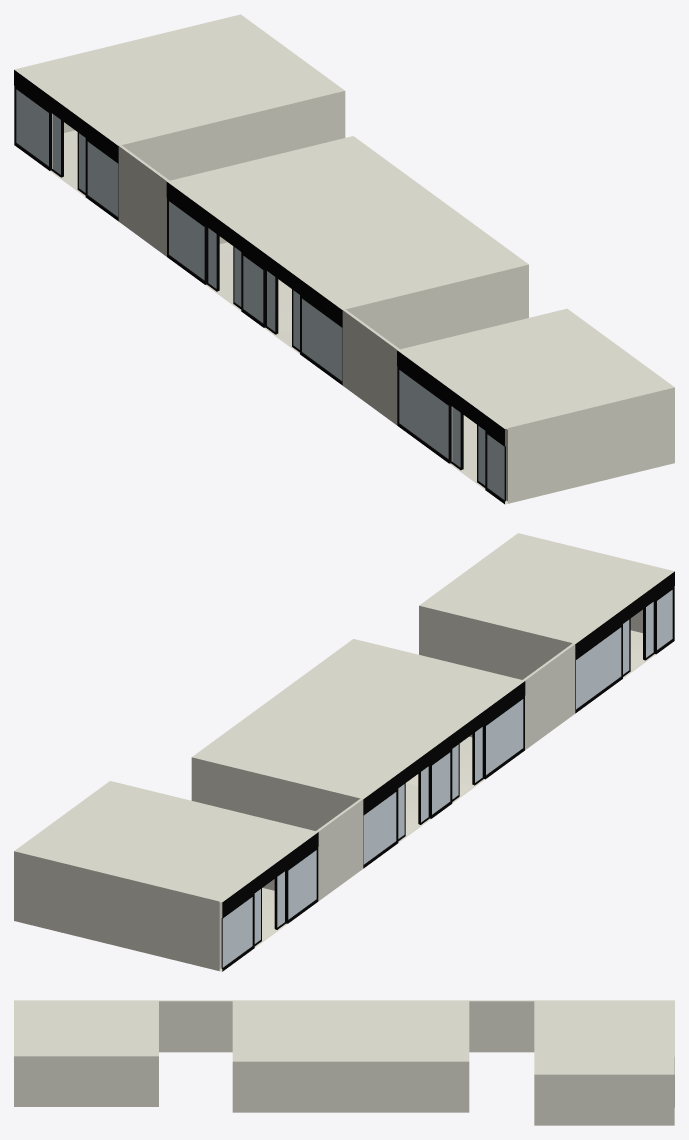
File: Shop 3.FBX
3 views of the same model, one above another, from view 1: azimuth 30°, elevation 25°; view 2: azimuth 150°, elevation 25°; view 3: azimuth 270°, elevation 25° (orthographic). The views are drawn at different scales.
Parts seen in each view (by area): view 1: shop 3; view 2: shop 3; view 3: shop 3.
Boxes of the visible parts, bbox=[...] form: shop 3: bbox=[14, 14, 674, 504]; shop 3: bbox=[14, 533, 674, 971]; shop 3: bbox=[14, 1000, 674, 1125].
Size of the model in its own units: 524 by 167 by 1963.
Materials: 1 (1 with a texture image).
